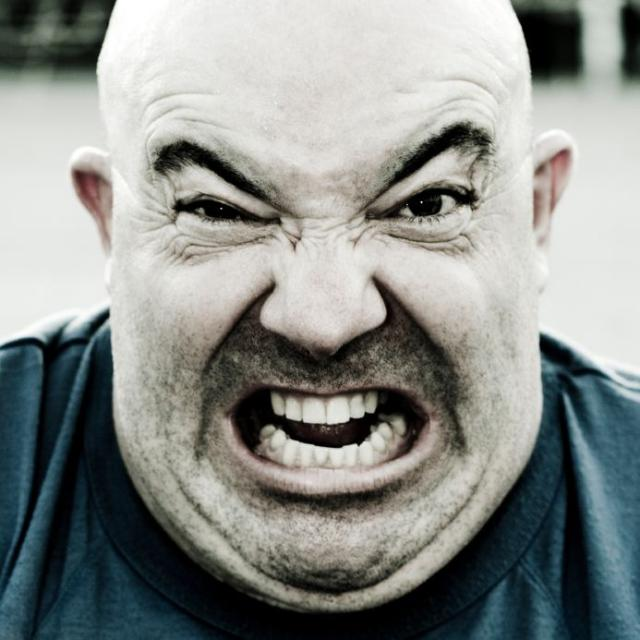no_helmet: (71, 0, 577, 165)
